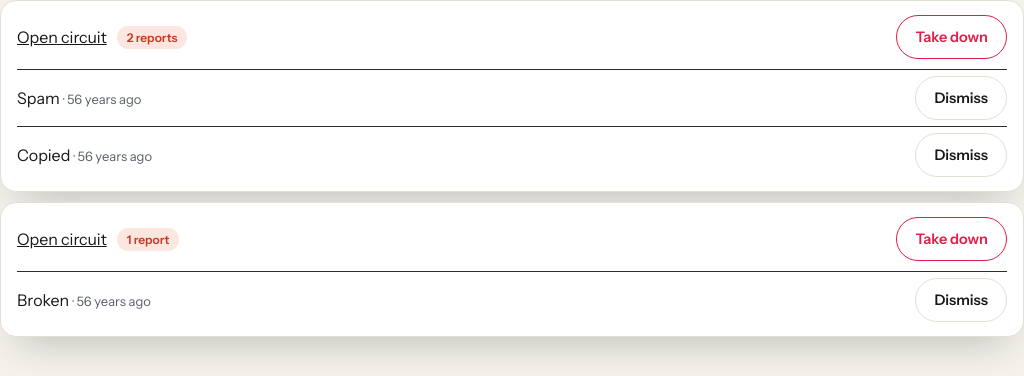
Scenario: ReportsSection › removes the reports that were closed even when another delete fails
Click the button "Take down" in the row of "reports".
click(952, 37)  # box [896,15,1007,59]
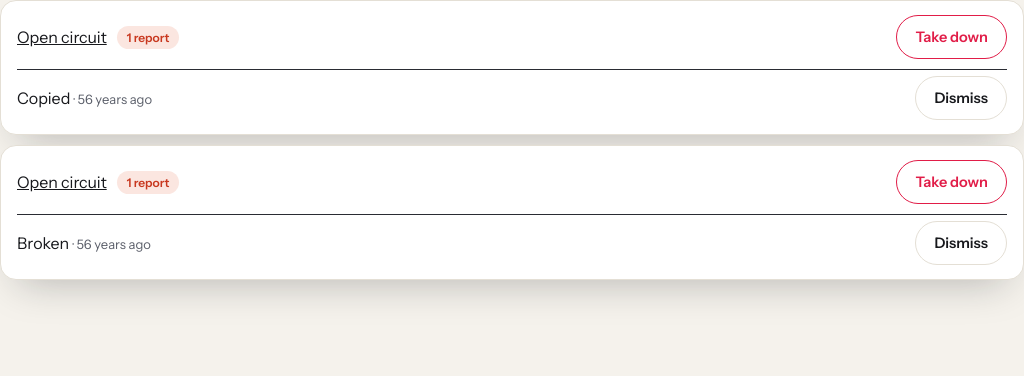
Check: the text "Copied" is shown, box [17,88,70,108]
Check: the text "Spam" is gone
